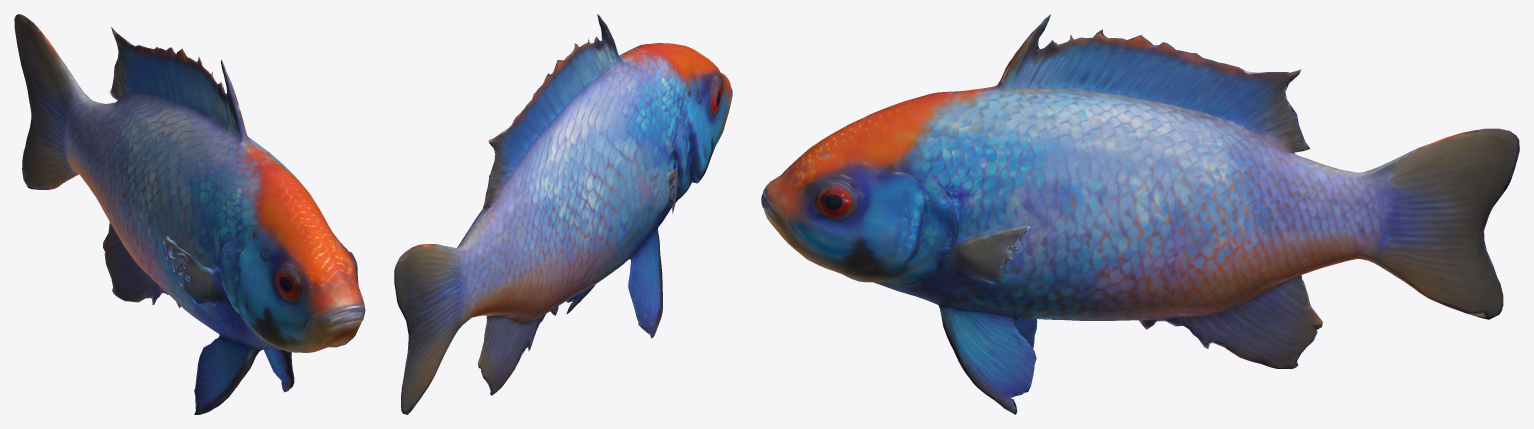
File: ramirezi_0604070347_texture.glb
3 views of the same model, side by side, from view 1: azimuth 30°, elevation 25°; view 2: azimuth 150°, elevation 25°; view 3: azimuth 270°, elevation 25° (orthographic). The views are drawn at different scales.
Size of the model in its own units: 0.4386 by 1.09 by 1.98.
1 material, 1 textured.
